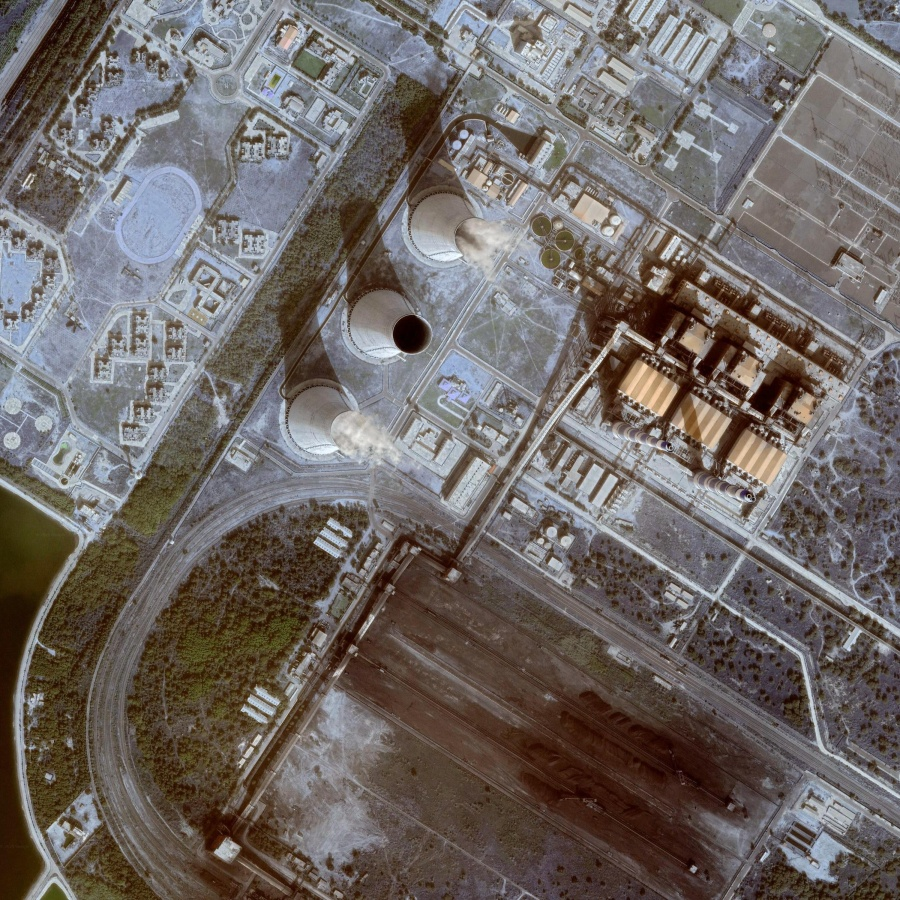PowerPlant: (273, 74, 823, 510)
